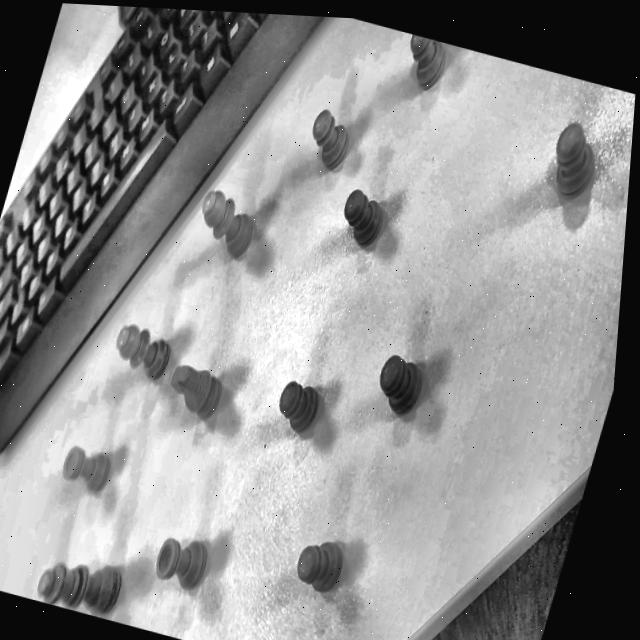white-bishop: (188, 187, 260, 261), (106, 321, 175, 383)
white-knight: (160, 349, 231, 424)
white-pawn: (528, 112, 629, 217), (368, 352, 427, 420), (331, 185, 389, 252), (288, 534, 347, 597), (301, 108, 355, 173), (394, 33, 449, 94), (271, 379, 322, 436)
white-queen: (30, 546, 124, 620)
white-rook: (150, 532, 211, 593), (55, 443, 113, 495)
